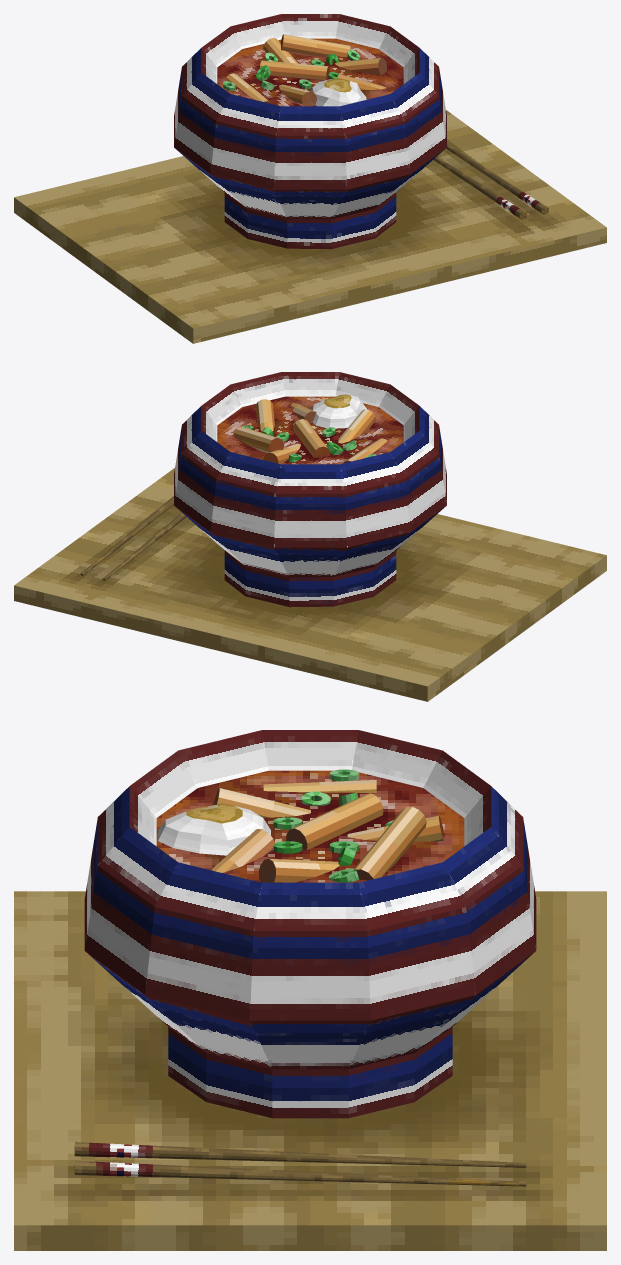
The model's file is tteokbokki_-_handpainted_voxel_model.glb.
3 views of the same model, one above another, from view 1: azimuth 30°, elevation 25°; view 2: azimuth 150°, elevation 25°; view 3: azimuth 270°, elevation 25° (orthographic). The views are drawn at different scales.
Parts seen in each view (by area): view 1: cube_19, torus_0, circle_1, sphere_2, cylinder_3, cylinder_7, cylinder_21, cylinder_20, cylinder_5, cylinder_8; view 2: cube_19, torus_0, circle_1, sphere_2, cylinder_3, cylinder_7, cylinder_21, cylinder_8, cylinder_20, cylinder_5; view 3: cube_19, torus_0, circle_1, cylinder_21, cylinder_20, sphere_2, cylinder_7, cylinder_3, cylinder_5, cylinder_8, cylinder_9, cylinder_6 (+1 smaller).
Part boxes in pixels (x1,y1,x2,y2): cube_19: [14, 110, 606, 343]; torus_0: [174, 14, 446, 249]; circle_1: [217, 38, 403, 106]; sphere_2: [311, 78, 366, 106]; cylinder_3: [280, 34, 350, 56]; cylinder_7: [259, 60, 329, 80]; cylinder_21: [446, 144, 548, 214]; cylinder_20: [433, 156, 526, 219]; cylinder_5: [335, 58, 386, 74]; cylinder_8: [279, 84, 316, 106]; cube_19: [14, 468, 606, 701]; torus_0: [174, 372, 446, 607]; circle_1: [217, 396, 403, 464]; sphere_2: [311, 394, 366, 428]; cylinder_3: [233, 427, 283, 452]; cylinder_7: [293, 419, 330, 457]; cylinder_21: [80, 496, 173, 575]; cylinder_8: [338, 409, 376, 443]; cylinder_20: [103, 513, 186, 580]; cylinder_5: [256, 399, 274, 431]; cube_19: [14, 891, 606, 1250]; torus_0: [84, 730, 536, 1118]; circle_1: [156, 770, 464, 882]; cylinder_21: [74, 1160, 526, 1186]; cylinder_20: [74, 1142, 526, 1167]; sphere_2: [158, 803, 270, 855]; cylinder_7: [286, 793, 383, 850]; cylinder_3: [354, 807, 426, 880]; cylinder_5: [258, 858, 339, 882]; cylinder_8: [213, 788, 310, 817]; cylinder_9: [212, 829, 275, 872]; cylinder_6: [263, 780, 376, 792].
Size of the model in its own units: 0.875 by 0.3422 by 0.6562.
22 materials, 22 textured.
